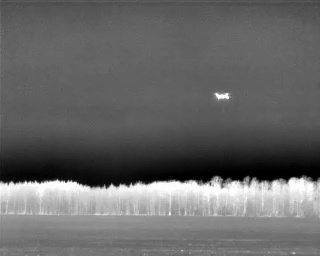DRONE: (211, 87, 234, 106)
